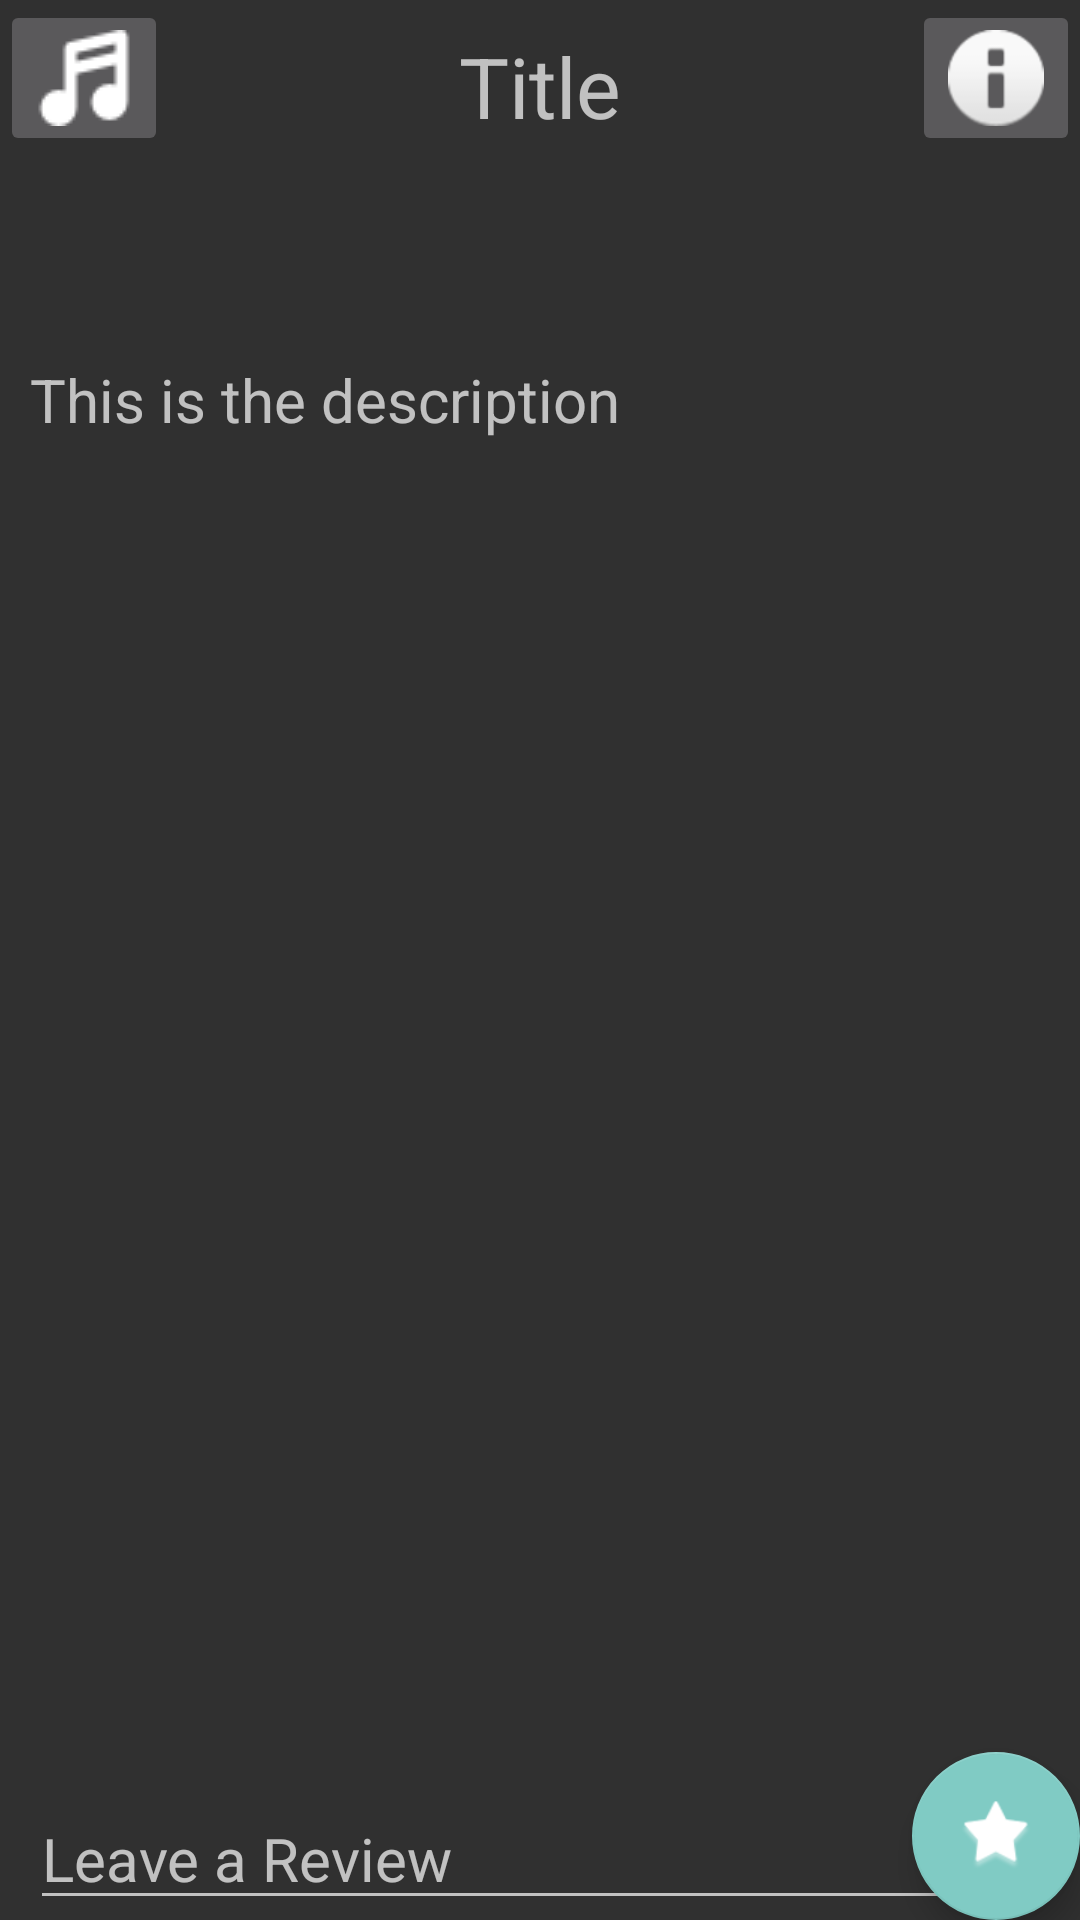

Locate icon controls on the screen. Image size 1080 x 1920, boxes as (x1, y1, x2, y2).
info: (924, 18, 1068, 138)
music: (12, 18, 156, 138)
star on: (912, 1752, 1080, 1920)
